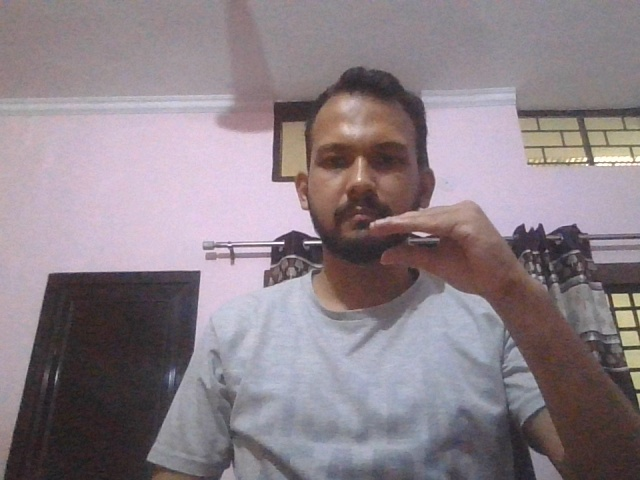no: (367, 202, 540, 297)
